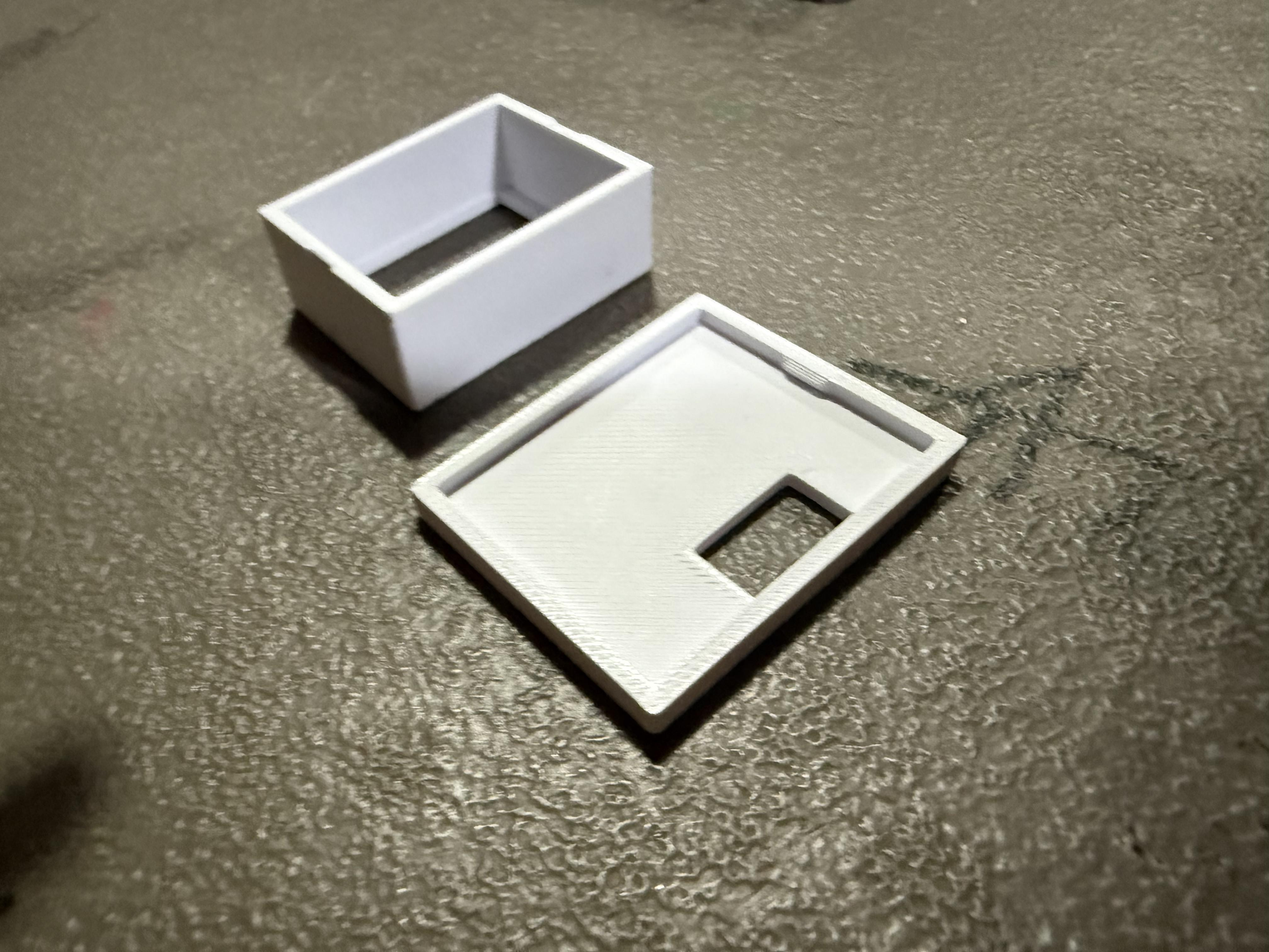enclosure: (397, 296, 988, 745), (258, 93, 654, 412)
